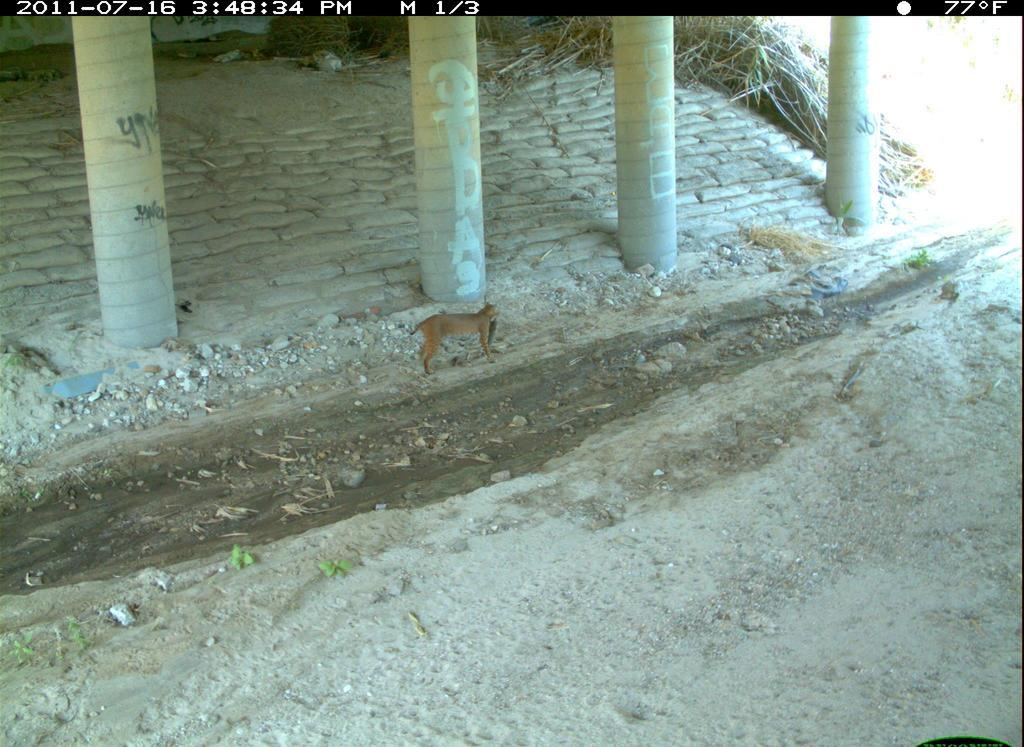bobcat: (810, 585, 1022, 747)
rabbit: (966, 633, 1002, 707)
